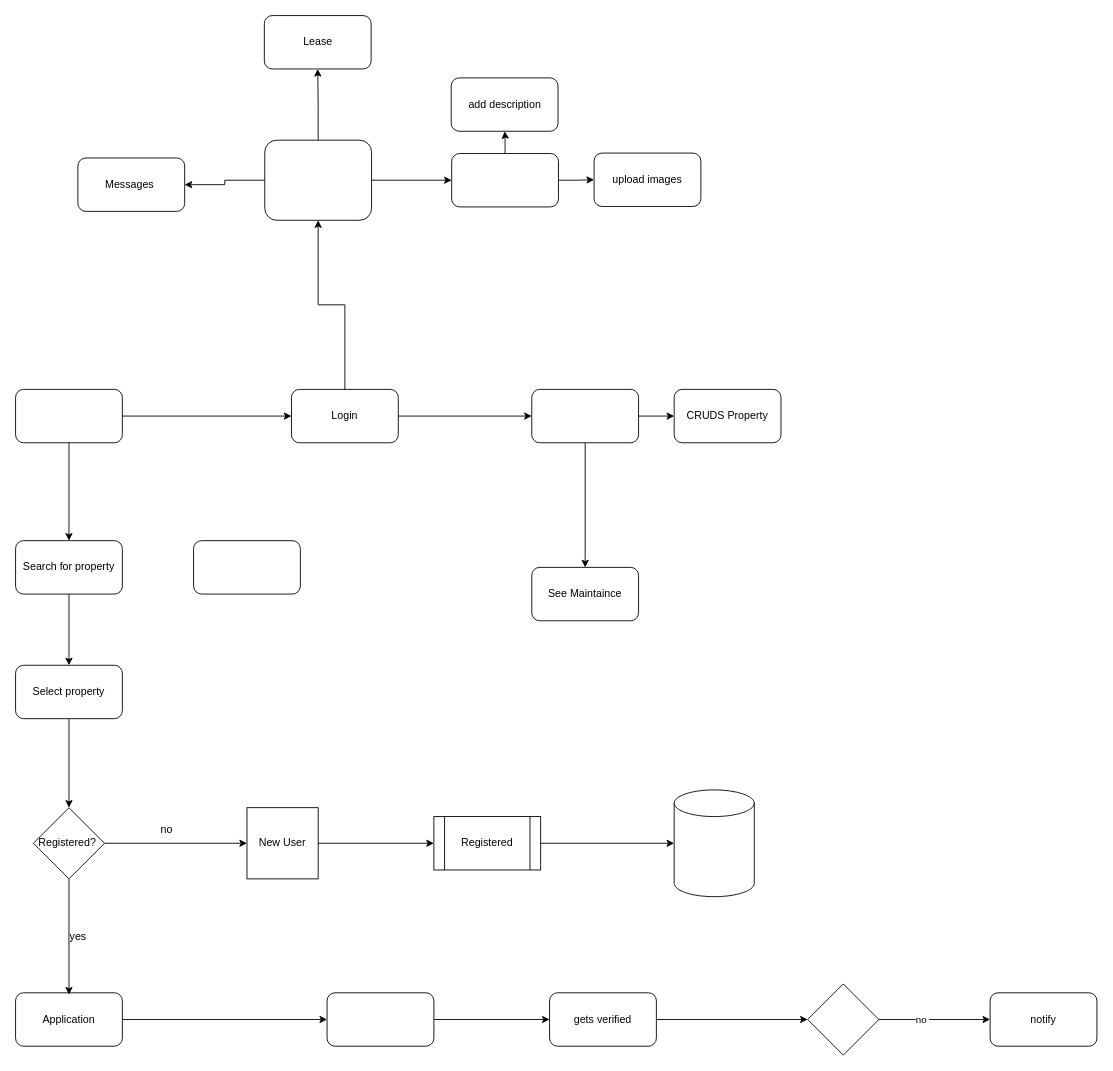
Image size: 1113x1071. Some labels were removed from this diagram. The centre of each missing label's shape, as x and y in pixels:
Admin: pixel 585 415
Available properties near them: pixel 246 567
Log Maintaince: pixel 504 180
qualified: pixel 843 1019
start: pixel 68 415
Tenant: pixel 318 179
upload supporting documents: pixel 380 1019
User database: pixel 713 843
